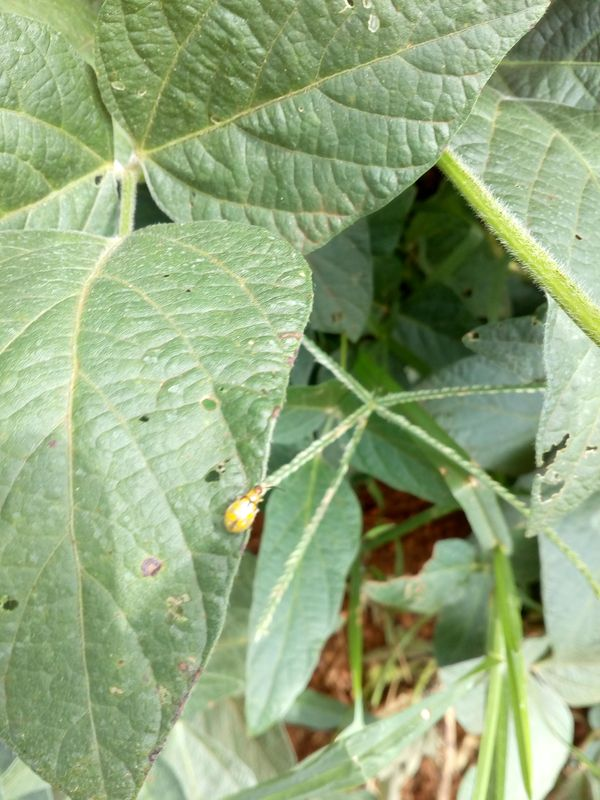Diabrotica_speciosa: (216, 475, 279, 542)
